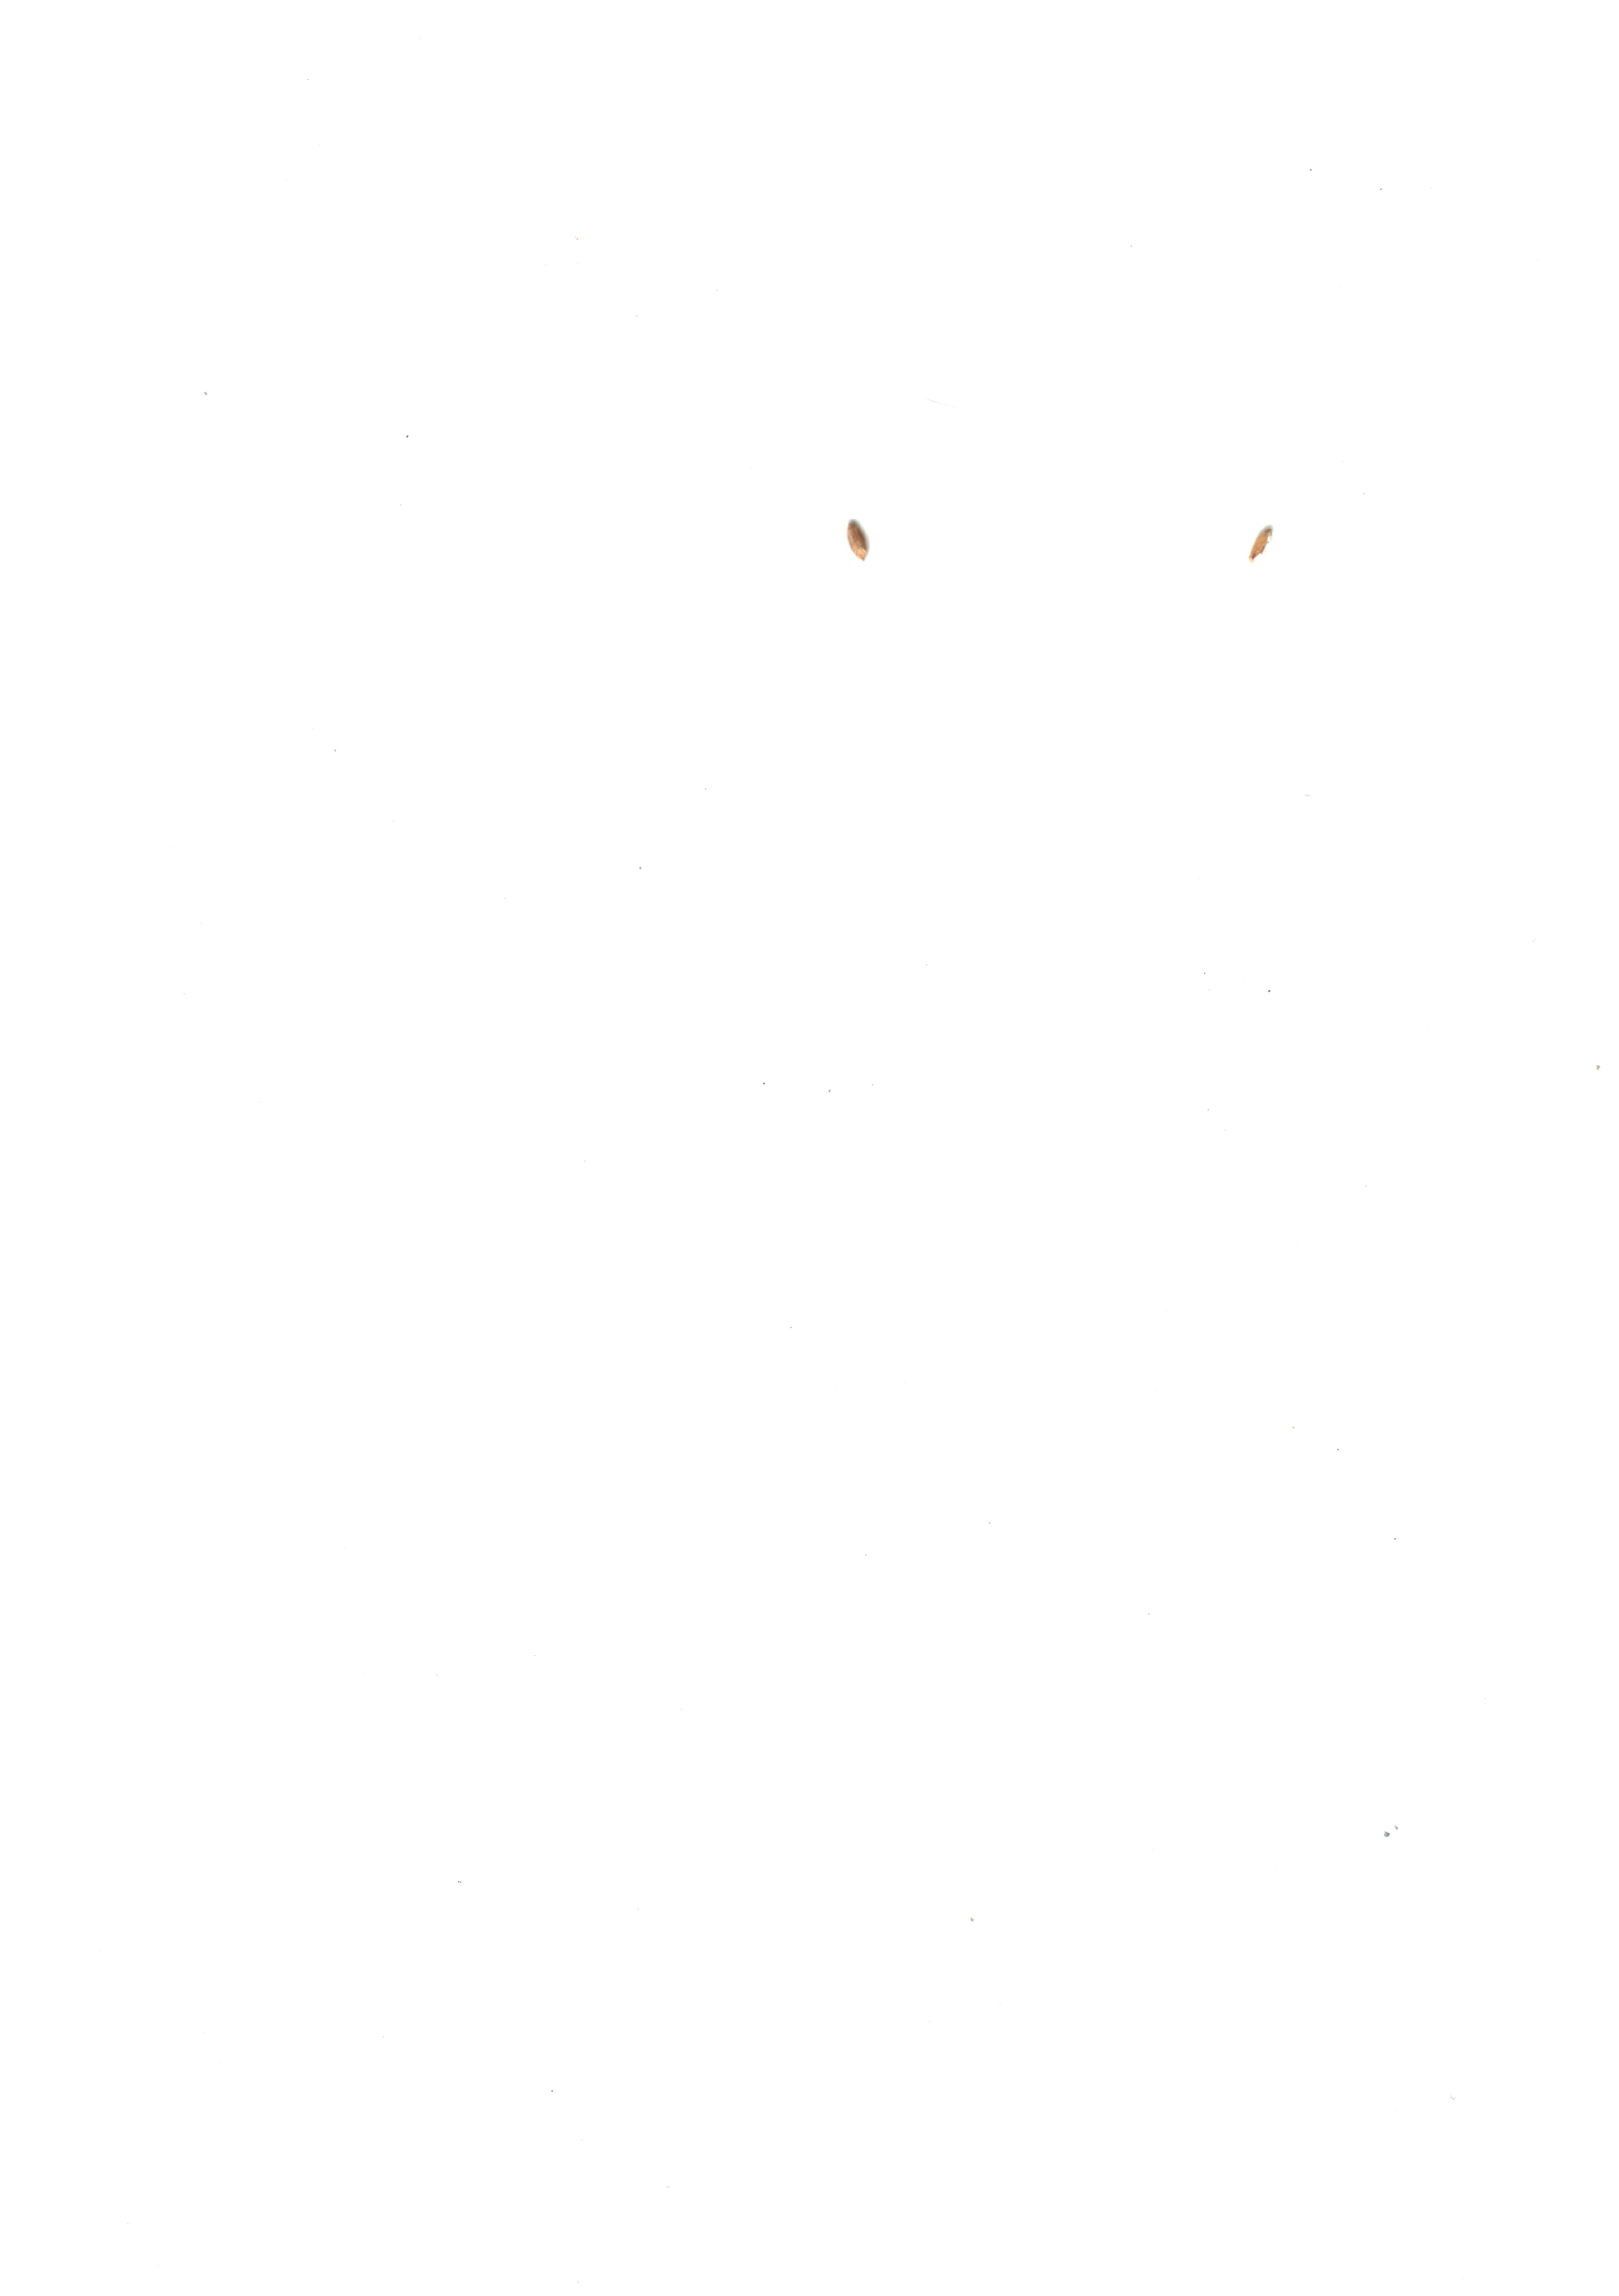grains_2mm: (1227, 507, 1309, 585), (820, 503, 901, 582)
